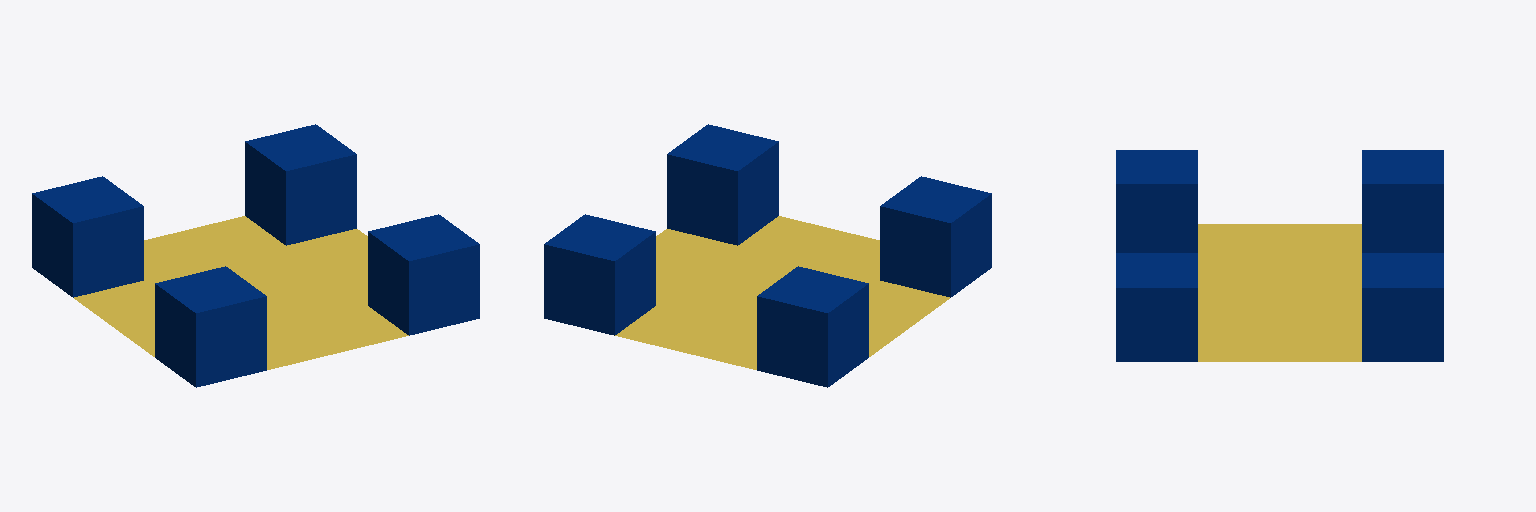
File: OneWay.obj
The picture shows the model from 3 angles: view 1: azimuth 30°, elevation 25°; view 2: azimuth 150°, elevation 25°; view 3: azimuth 270°, elevation 25°; orthographic projection.
Visible parts, largest first — view 1: Plane001, Box001, Box004, Box002, Box003; view 2: Plane001, Box002, Box003, Box001, Box004; view 3: Plane001, Box002, Box004, Box001, Box003.
Part boxes in pixels (x1,y1,x2,y2): Plane001: (74,216,408,369); Box001: (155,266,266,387); Box004: (245,124,356,245); Box002: (368,214,479,335); Box003: (32,176,143,297); Plane001: (615,216,949,369); Box002: (667,124,778,245); Box003: (757,266,868,387); Box001: (880,176,991,297); Box004: (544,214,655,335); Plane001: (1198,224,1361,361); Box002: (1116,253,1197,361); Box004: (1362,253,1443,361); Box001: (1116,150,1197,252); Box003: (1362,150,1443,252).
Size of the model in its own units: 40 by 10 by 40.